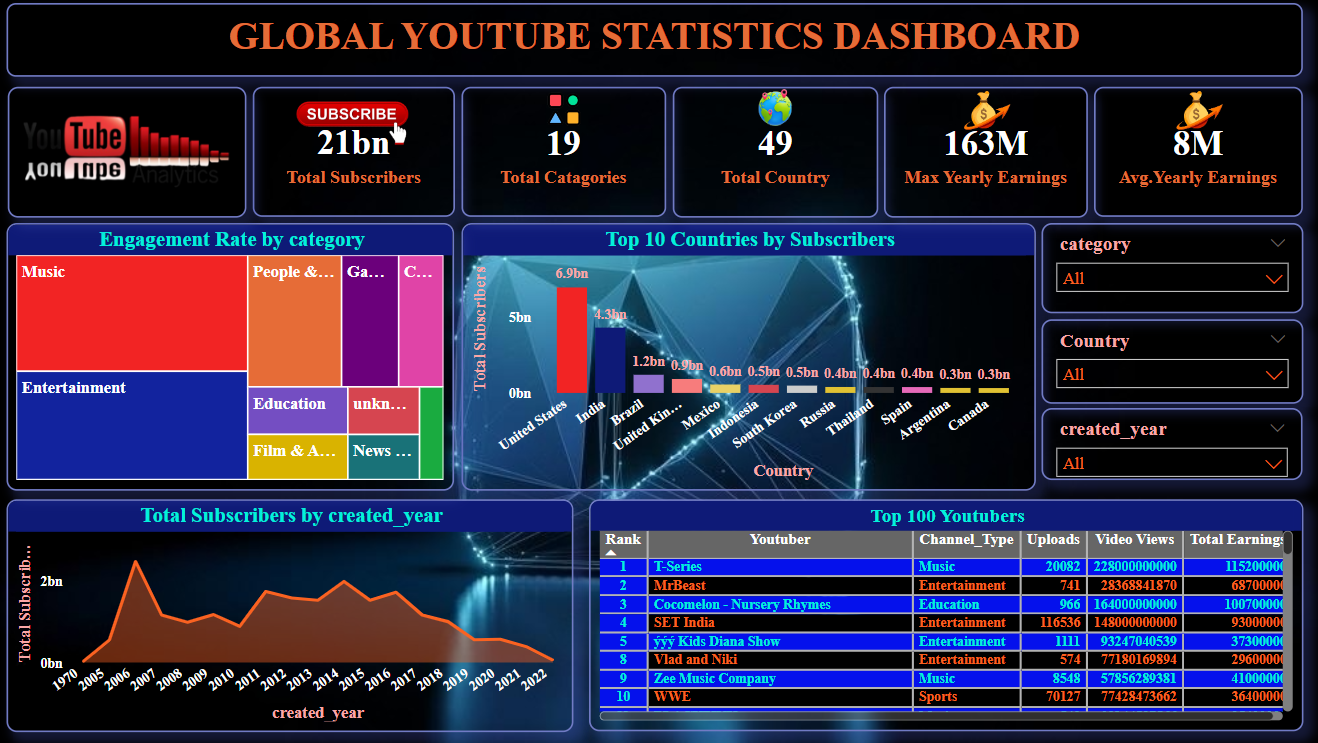

What the dashboard file says about the page in this screenshot:
{"tool":"powerbi","page":{"name":"Youtubers info.","canvas":[1280,720],"ordinal":0},"visuals":[{"type":"card","fields":{"Values":["Measure Table.Total Subscribers"]},"box":[249.2,85.4,195.4,125.4],"z":0},{"type":"clusteredColumnChart","title":"Top 10 Countries by Subscribers","fields":{"Category":["Global YouTube Statistics.Country"],"Y":["Measure Table.Total Subscribers"]},"box":[451.3,217.3,554,258],"z":1000},{"type":"card","fields":{"Values":["Measure Table.Total Catagories"]},"box":[450.9,85.5,197.3,125.5],"z":2000},{"type":"card","fields":{"Values":["Measure Table.Total Country"]},"box":[655.4,85.4,198.5,126.2],"z":3000},{"type":"card","fields":{"Values":["Measure Table.Max Yearly Earnings"]},"box":[859.2,85.4,196.9,126.2],"z":4000},{"type":"card","fields":{"Values":["Measure Table.Min Yearly Earnings"]},"box":[1061.9,85.6,201.2,125.6],"z":5000},{"type":"lineChart","fields":{"Y":["Measure Table.Total Subscribers"],"Category":["Global YouTube Statistics.Date_Hierarchy.created_year","Global YouTube Statistics.Date_Hierarchy.created_month"]},"box":[12.7,484,547.3,224.7],"z":6000},{"type":"treemap","fields":{"Group":["Global YouTube Statistics.category"],"Values":["Global YouTube Statistics.Engagement Rate"]},"box":[12,217.3,432,258],"z":7000},{"type":"tableEx","title":"Top 100 Youtubers","fields":{"Values":["Global YouTube Statistics.rank","Global YouTube Statistics.Youtuber","Global YouTube Statistics.channel_type","Global YouTube Statistics.uploads","Global YouTube Statistics.video views","Global YouTube Statistics.Total Earnings"]},"box":[574,484,689.3,224],"z":8000},{"type":"slicer","fields":{"Values":["Global YouTube Statistics.category"]},"box":[1010.7,217.3,252.7,87.3],"z":9000},{"type":"slicer","fields":{"Values":["Global YouTube Statistics.Country"]},"box":[1010.7,310,252.7,81.3],"z":10000},{"type":"slicer","fields":{"Values":["Global YouTube Statistics.created_year"]},"box":[1011,395.7,252.1,70],"z":11000},{"type":"textbox","box":[12.5,5,1251.2,71.2],"z":12000},{"type":"image","box":[13.3,85.3,230.7,126],"z":13000},{"type":"image","box":[887.5,68.1,140,88.1],"z":16000},{"type":"image","box":[1092.5,68.1,140,88.1],"z":17000},{"type":"image","box":[720.6,80,67.5,54.4],"z":18000},{"type":"image","box":[521.9,85.6,55.6,43.1],"z":19000},{"type":"image","box":[287.5,80,118.1,81.9],"z":20000}]}

Visuals, with their boxes in screenshot pixels (x1, y1, x2, y2), scaled from the page's 1280x720 canvas onto the 1318x743 screenshot:
card - Measure Table.Total Subscribers: BBox(257, 88, 458, 218)
"Top 10 Countries by Subscribers" clusteredColumnChart: BBox(465, 224, 1035, 490)
card - Measure Table.Total Catagories: BBox(464, 88, 667, 218)
card - Measure Table.Total Country: BBox(675, 88, 879, 218)
card - Measure Table.Max Yearly Earnings: BBox(885, 88, 1087, 218)
card - Measure Table.Min Yearly Earnings: BBox(1093, 88, 1301, 218)
lineChart - Measure Table.Total Subscribers x Global YouTube Statistics.Date_Hierarchy.created_year: BBox(13, 499, 577, 731)
treemap - Global YouTube Statistics.category x Global YouTube Statistics.Engagement Rate: BBox(12, 224, 457, 490)
"Top 100 Youtubers" tableEx: BBox(591, 499, 1301, 731)
slicer - Global YouTube Statistics.category: BBox(1041, 224, 1301, 314)
slicer - Global YouTube Statistics.Country: BBox(1041, 320, 1301, 404)
slicer - Global YouTube Statistics.created_year: BBox(1041, 408, 1301, 481)
textbox: BBox(13, 5, 1301, 79)
image: BBox(14, 88, 251, 218)
image: BBox(914, 70, 1058, 161)
image: BBox(1125, 70, 1269, 161)
image: BBox(742, 83, 811, 139)
image: BBox(537, 88, 595, 133)
image: BBox(296, 83, 418, 167)
